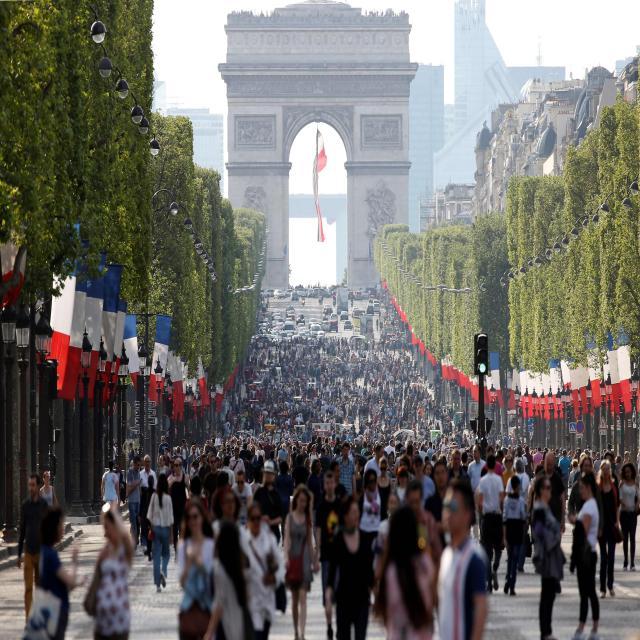body: (219, 379, 554, 440), (228, 280, 426, 376), (20, 506, 90, 640), (378, 498, 443, 640), (434, 476, 490, 640), (227, 441, 637, 460), (83, 499, 136, 640), (237, 503, 287, 640), (329, 498, 376, 639), (529, 474, 567, 640), (175, 499, 219, 640), (280, 480, 316, 640), (314, 470, 345, 640), (376, 490, 411, 640), (570, 471, 600, 640), (18, 473, 50, 626), (211, 487, 266, 574), (351, 459, 545, 482), (358, 469, 388, 607), (477, 453, 506, 595), (144, 472, 174, 595), (594, 458, 620, 599), (404, 480, 443, 568), (501, 474, 527, 597), (505, 458, 531, 572), (252, 460, 285, 546), (167, 457, 192, 562), (567, 454, 600, 533), (620, 460, 640, 571), (602, 451, 620, 568), (544, 450, 566, 544), (467, 444, 487, 545), (275, 459, 295, 550), (126, 454, 143, 557), (139, 474, 156, 562), (376, 455, 394, 522), (230, 470, 252, 524), (336, 441, 356, 500), (308, 459, 322, 538), (100, 460, 121, 512), (558, 448, 572, 500), (329, 461, 347, 499), (364, 444, 384, 477), (39, 471, 57, 507), (140, 454, 158, 490), (291, 452, 308, 490), (228, 447, 246, 482), (113, 462, 125, 510), (220, 455, 236, 487), (157, 436, 171, 466), (188, 445, 198, 484), (277, 444, 290, 474), (155, 455, 171, 479), (199, 454, 211, 486), (568, 458, 580, 488), (180, 439, 190, 473), (173, 446, 185, 473), (266, 450, 278, 474), (250, 468, 262, 492), (110, 438, 126, 456), (309, 444, 319, 468), (593, 452, 601, 480), (239, 443, 252, 460), (263, 438, 273, 460), (242, 460, 264, 470), (190, 459, 200, 480), (256, 442, 266, 462), (190, 438, 200, 457), (615, 454, 623, 477), (300, 445, 308, 467), (128, 442, 134, 469), (290, 446, 298, 466), (196, 434, 210, 445), (209, 438, 217, 456), (218, 442, 226, 459), (303, 457, 311, 474), (216, 458, 226, 470), (637, 446, 640, 483), (164, 447, 176, 456), (220, 448, 227, 461), (204, 445, 211, 457), (214, 434, 221, 445), (225, 423, 230, 438), (199, 447, 204, 457), (134, 448, 139, 457), (140, 456, 144, 466)
